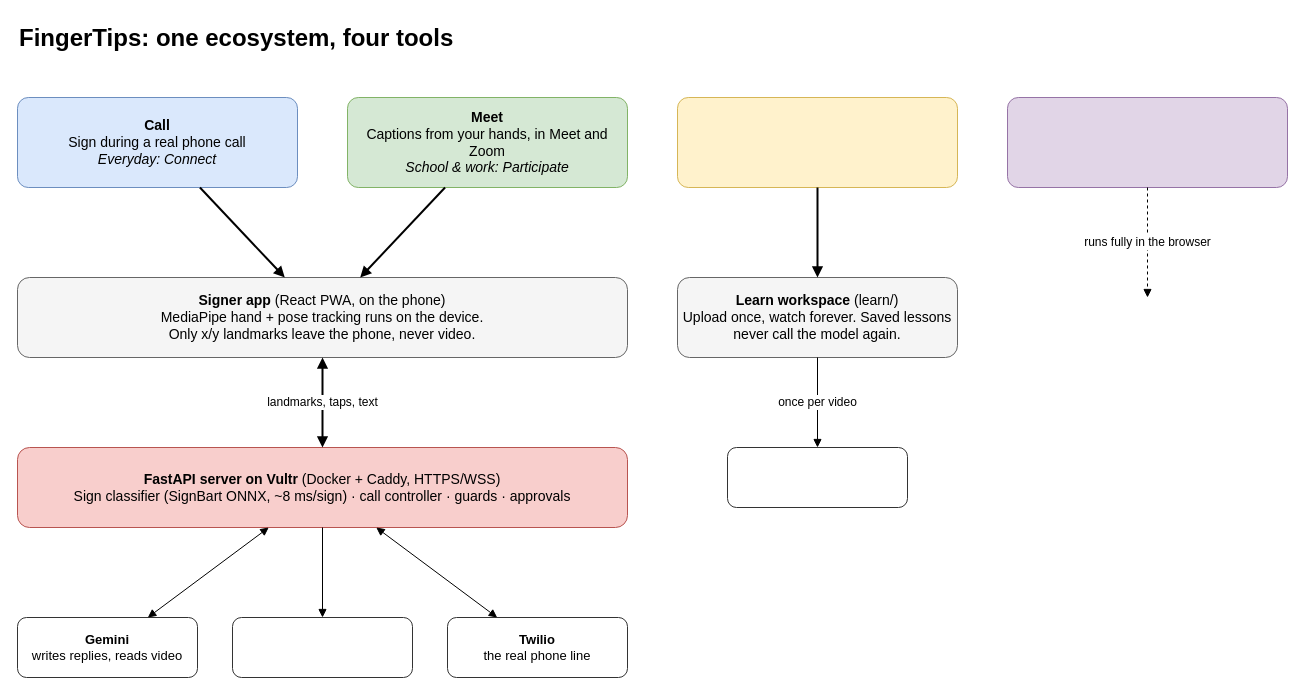
Image size: 1305x695. Some labels were removed from this diagram. Each missing label, with the centre of its shape:
"Gemini video + audio understanding" goes at (817,477).
"Grok Voice speaks approved words" goes at (322,647).
"Learn Any hands-on video becomes a lesson Learning: Grow" goes at (817,142).
"Play Gestures become music you can see Expression: Express" goes at (1147,142).
